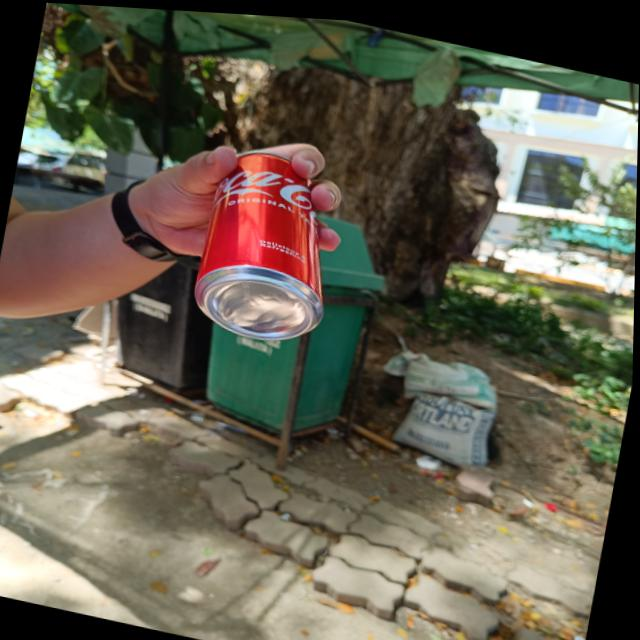coke: (187, 137, 349, 351)
